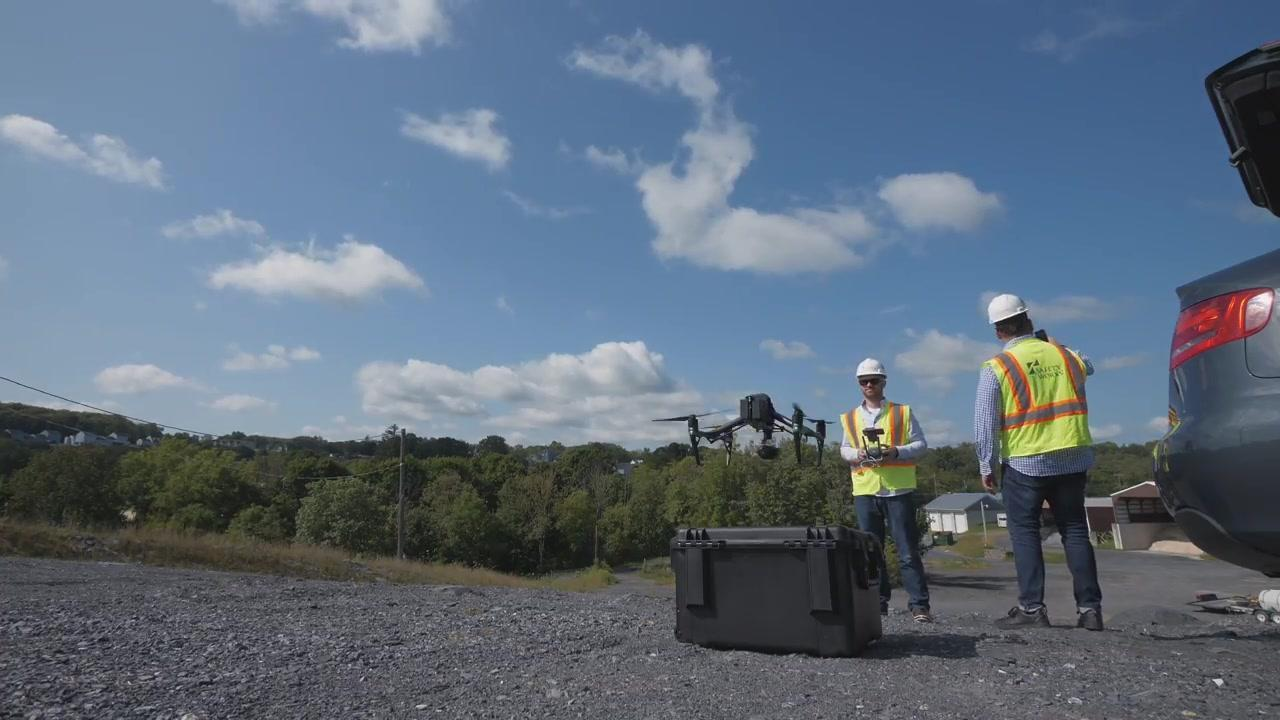vest: (975, 339, 1092, 460), (836, 403, 917, 492)
